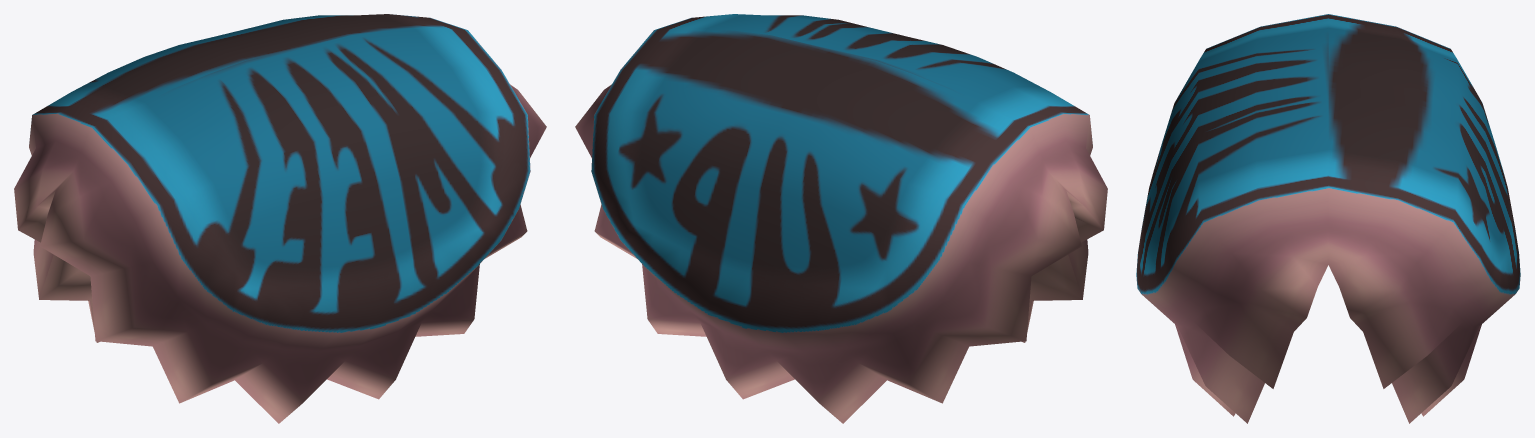
File: BottleCap_Bent_TU.fbx
The picture shows the model from 3 angles, left to right: view 1: azimuth 30°, elevation 25°; view 2: azimuth 150°, elevation 25°; view 3: azimuth 270°, elevation 25°; orthographic projection. The views are drawn at different scales.
Parts seen in each view (by area): view 1: BottleCap_Bent_TU; view 2: BottleCap_Bent_TU; view 3: BottleCap_Bent_TU.
Part boxes in pixels (x1=…): BottleCap_Bent_TU: x1=14, y1=14, x2=546, y2=423; BottleCap_Bent_TU: x1=575, y1=14, x2=1107, y2=423; BottleCap_Bent_TU: x1=1136, y1=14, x2=1520, y2=423.
Bounding box in the file's own units: 512 × 315 × 346.
